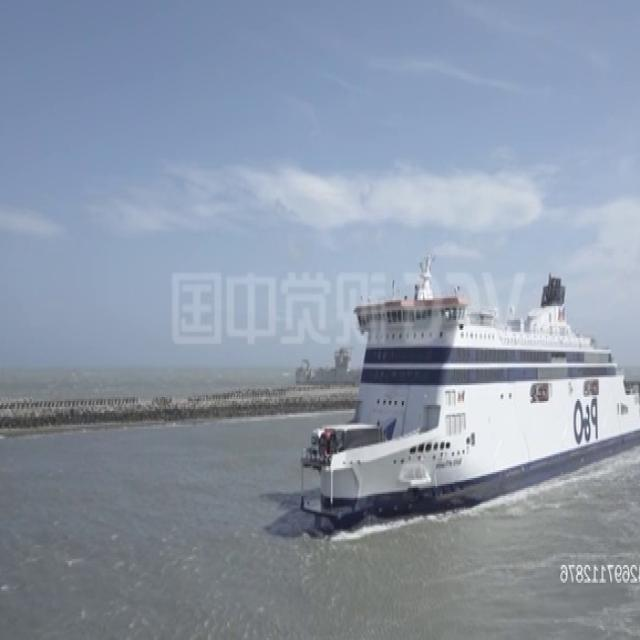passenger ship: (298, 261, 640, 521)
